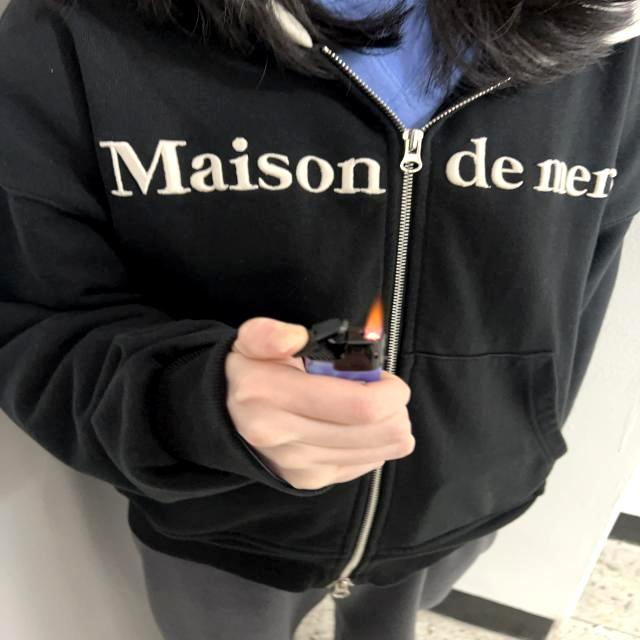fire: (364, 294, 388, 342)
